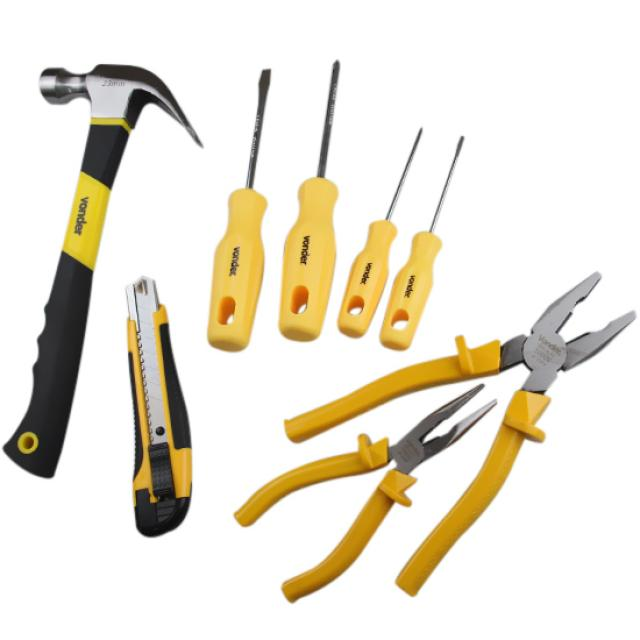Screwdriver: (337, 129, 422, 337), (380, 136, 463, 349), (207, 69, 269, 351), (279, 61, 339, 341)
